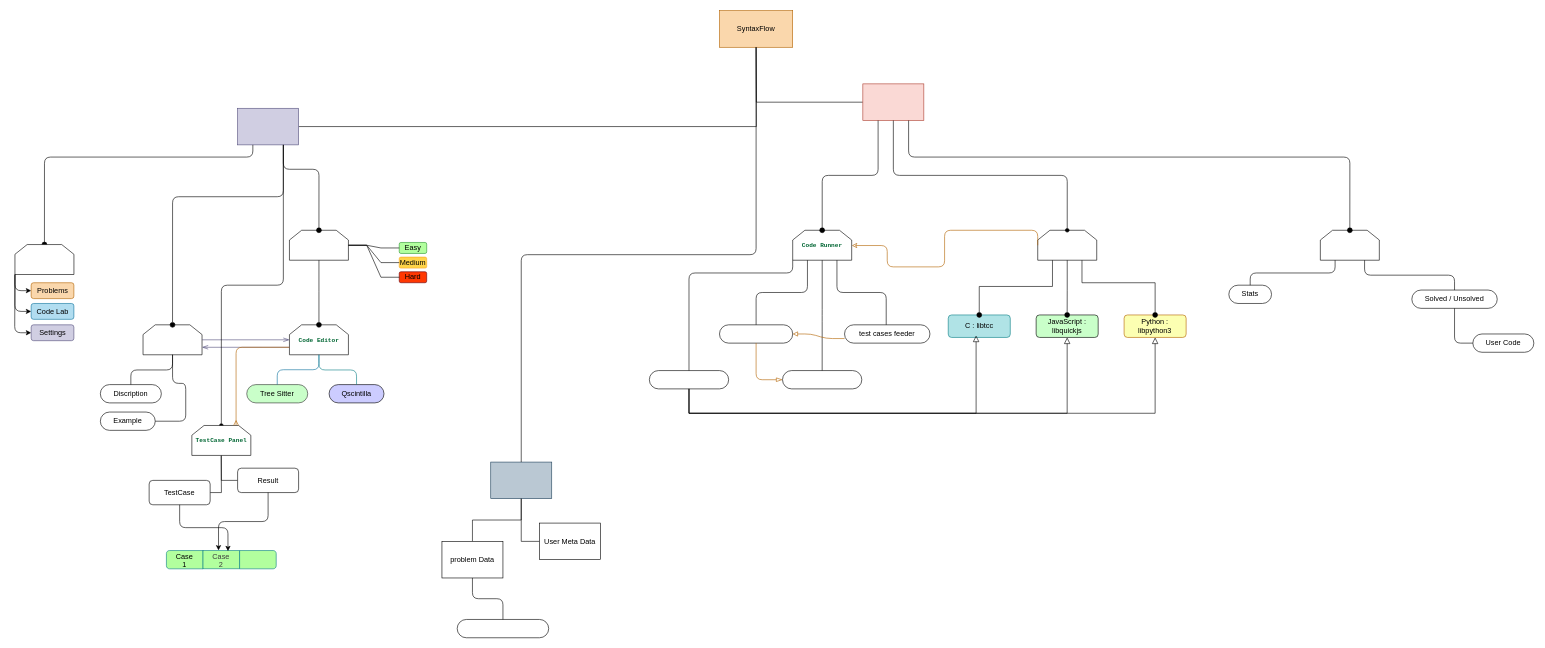
Image size: 1545x648. Some labels were removed from this diagram. The centre of each missing label's shape, as x and y in pixels:
"Backend" belongs at [893,101].
"Case 3" belongs at [257,559].
"Compare output" belongs at [822,379].
"Compiler Bundle" belongs at [1067,245].
"Front End" belongs at [268,126].
"Problem Browser" belongs at [318,245].
"Problem Meta Data" belongs at [503,628].
"Problem Panel" belongs at [172,339].
"Run testCase" belongs at [756,333].
"SideBar" belongs at [44,259].
"Stroage System" belongs at [521,480].
"Switch language" belongs at [689,379].
"User Progress" belongs at [1349,245].
